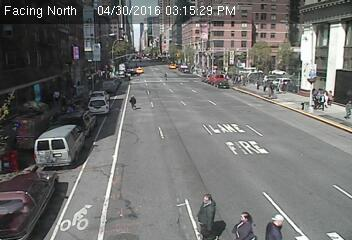neg: (20, 103, 61, 158), (270, 66, 302, 110), (191, 105, 220, 144), (132, 47, 158, 81), (65, 39, 89, 71), (205, 41, 225, 68)
pos: (188, 190, 222, 235), (236, 209, 257, 237), (270, 210, 290, 237), (128, 93, 140, 110)
